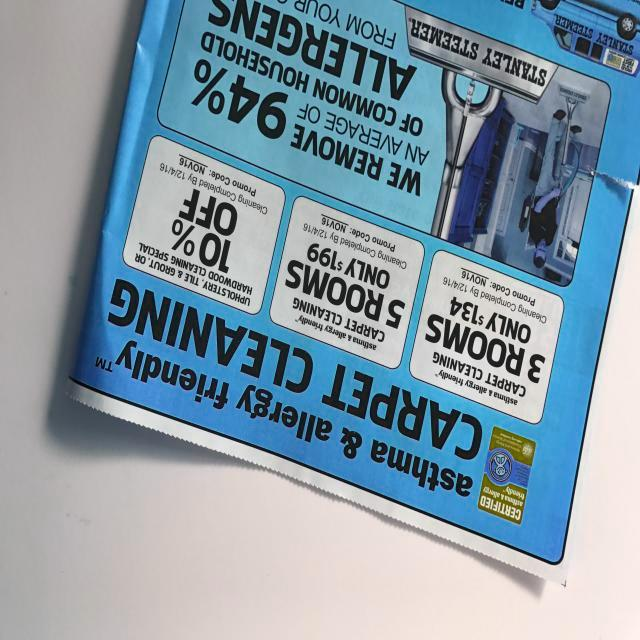paper: (89, 0, 640, 585)
